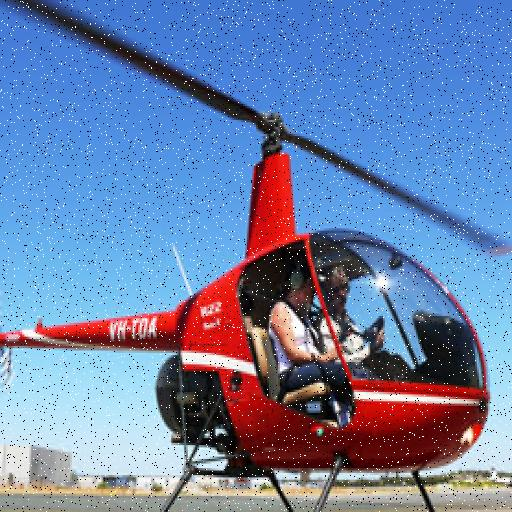helicopter: (12, 31, 512, 512)
